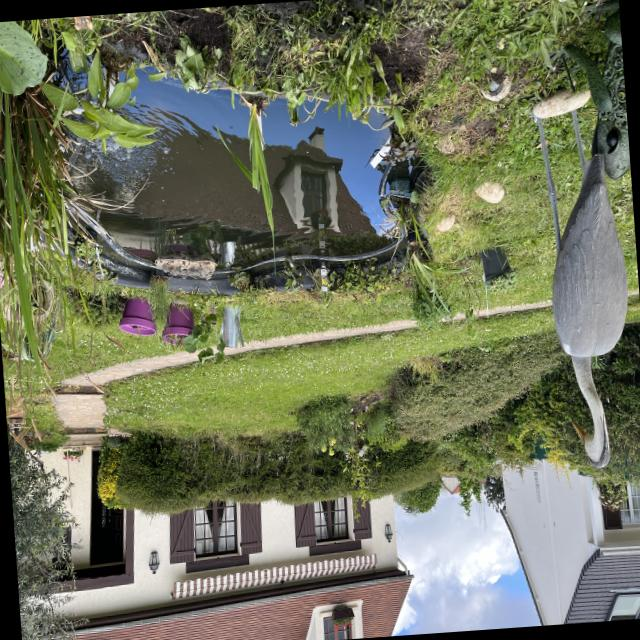Heron: (527, 52, 640, 484)
